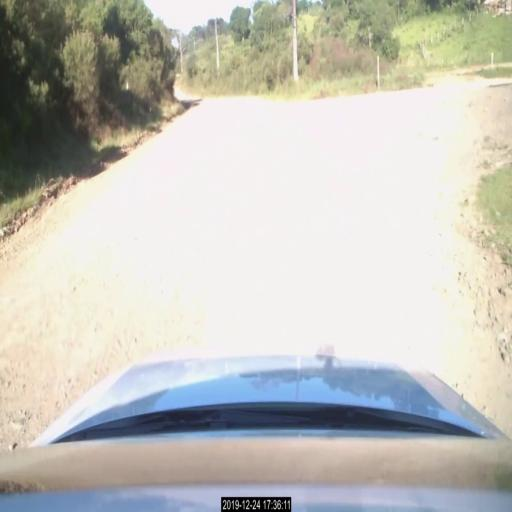Pothole: (0, 294, 66, 385), (459, 257, 512, 333)
